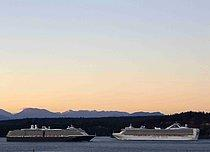Ship: (113, 121, 207, 148), (3, 123, 102, 146)
